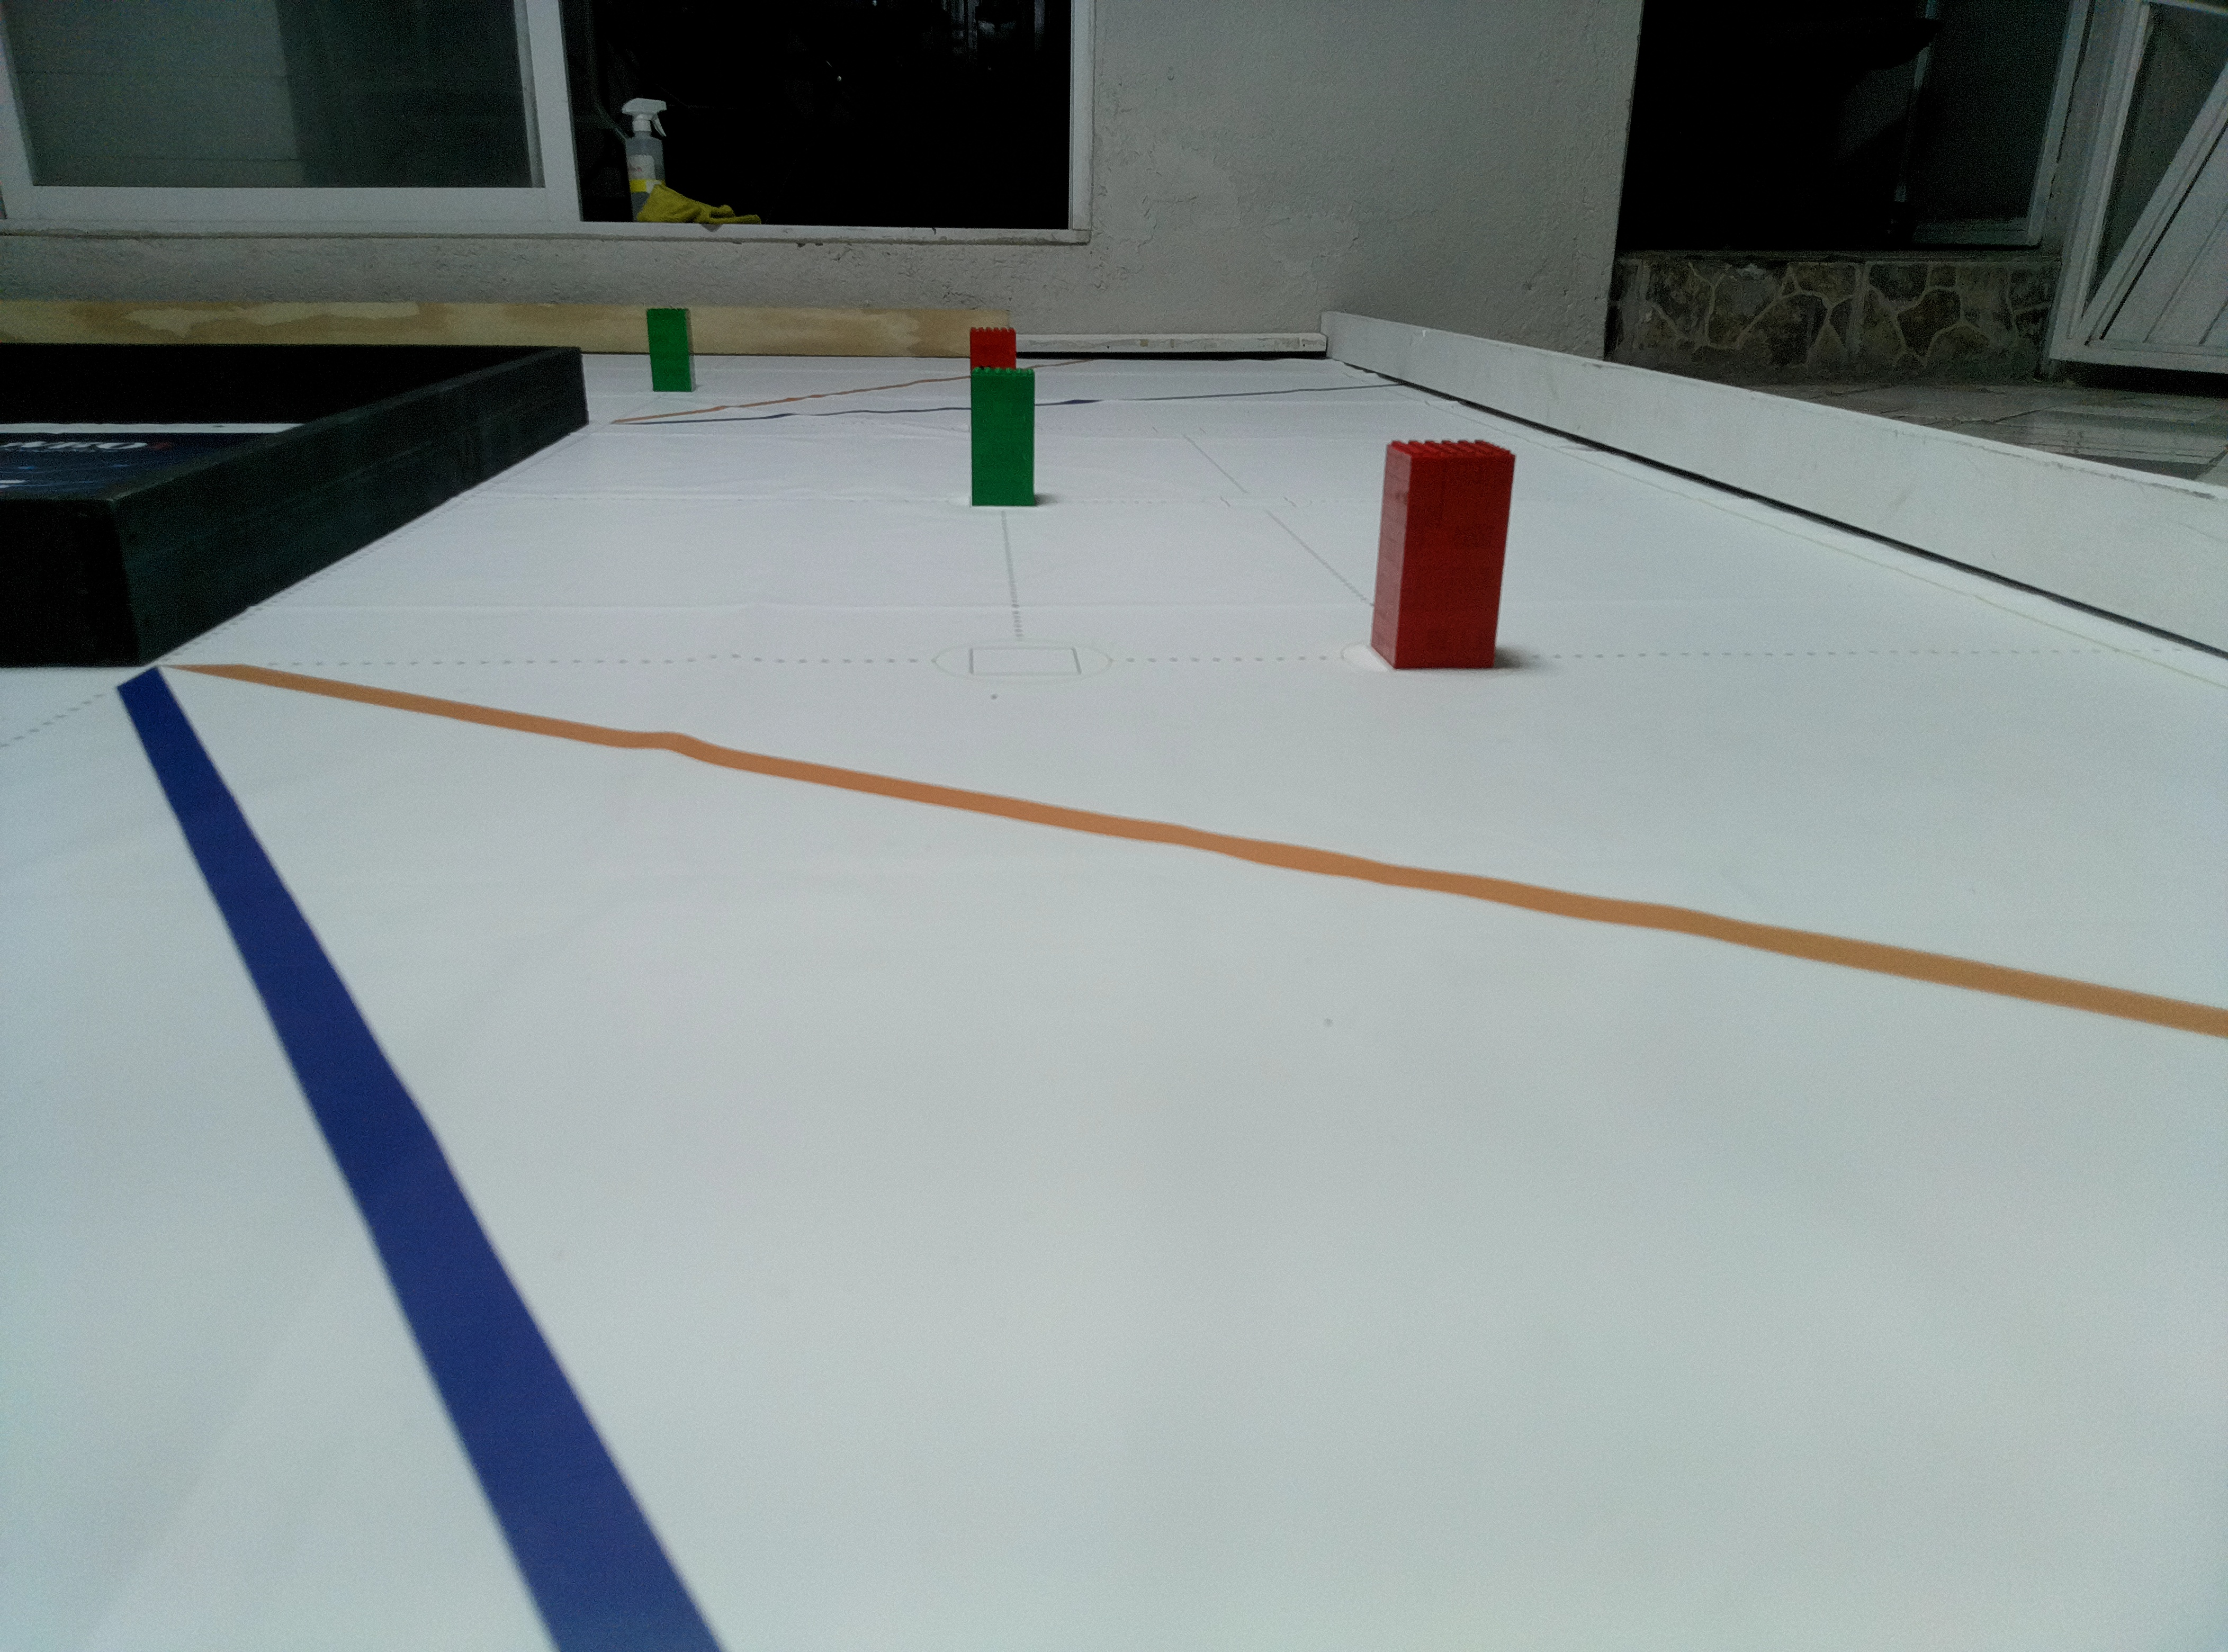greenbox: (970, 364, 1036, 505), (645, 309, 697, 391)
redbox: (1371, 431, 1516, 668), (968, 322, 1016, 371)
